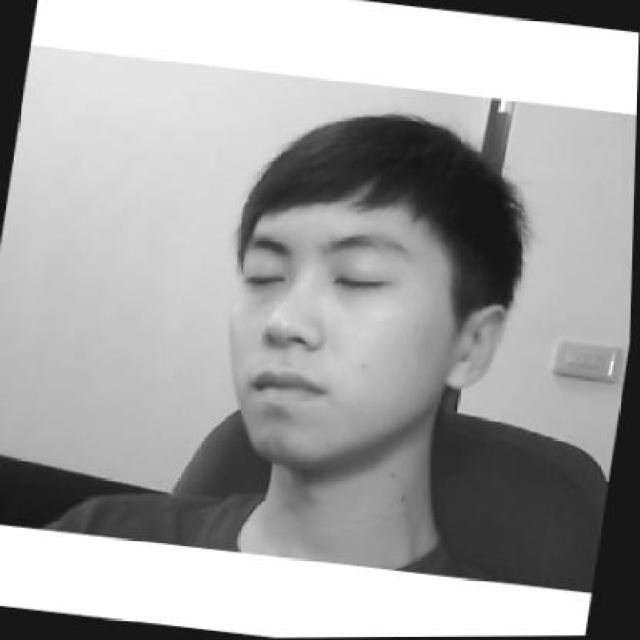inattentif: (206, 92, 536, 490)
